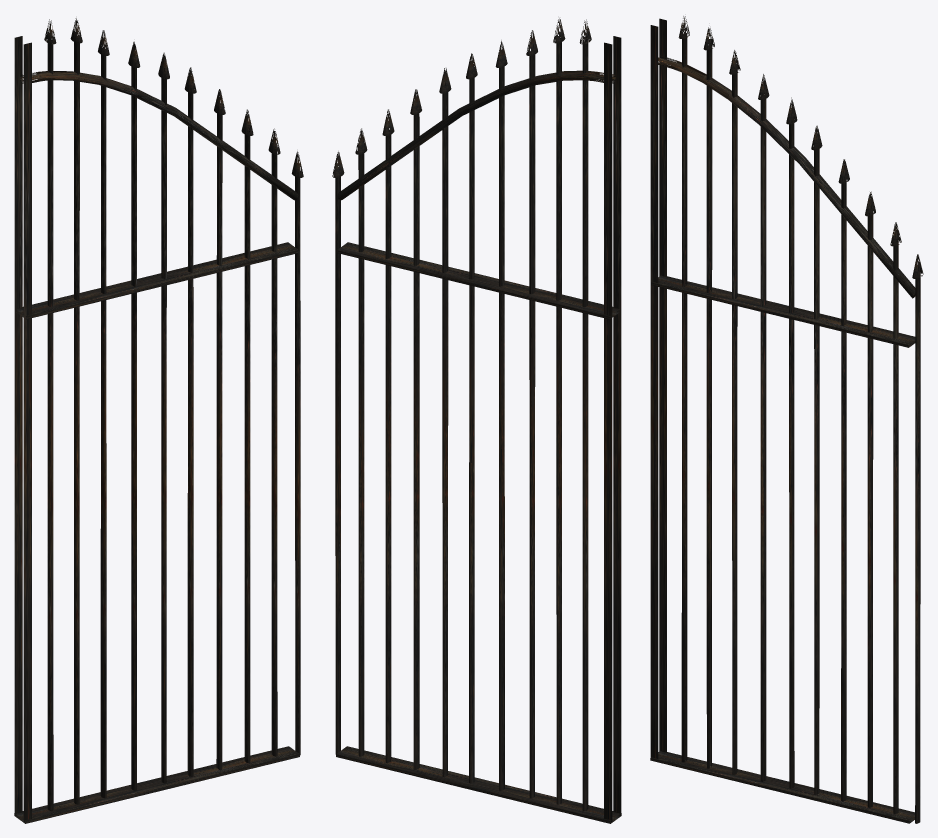
File: Puerta_Izq.fbx
3 renders of one model, left to right at view 1: azimuth 30°, elevation 25°; view 2: azimuth 150°, elevation 25°; view 3: azimuth 330°, elevation 25°, orthographic. The views are drawn at different scales.
Visible parts, largest first — view 1: Cylinder.005; view 2: Cylinder.005; view 3: Cylinder.005.
Part boxes in pixels (x1,y1,x2,y2): Cylinder.005: (14, 18, 303, 823); Cylinder.005: (332, 18, 621, 823); Cylinder.005: (650, 16, 923, 823).
Bounding box in the file's own units: 260 × 701 × 17.68.
